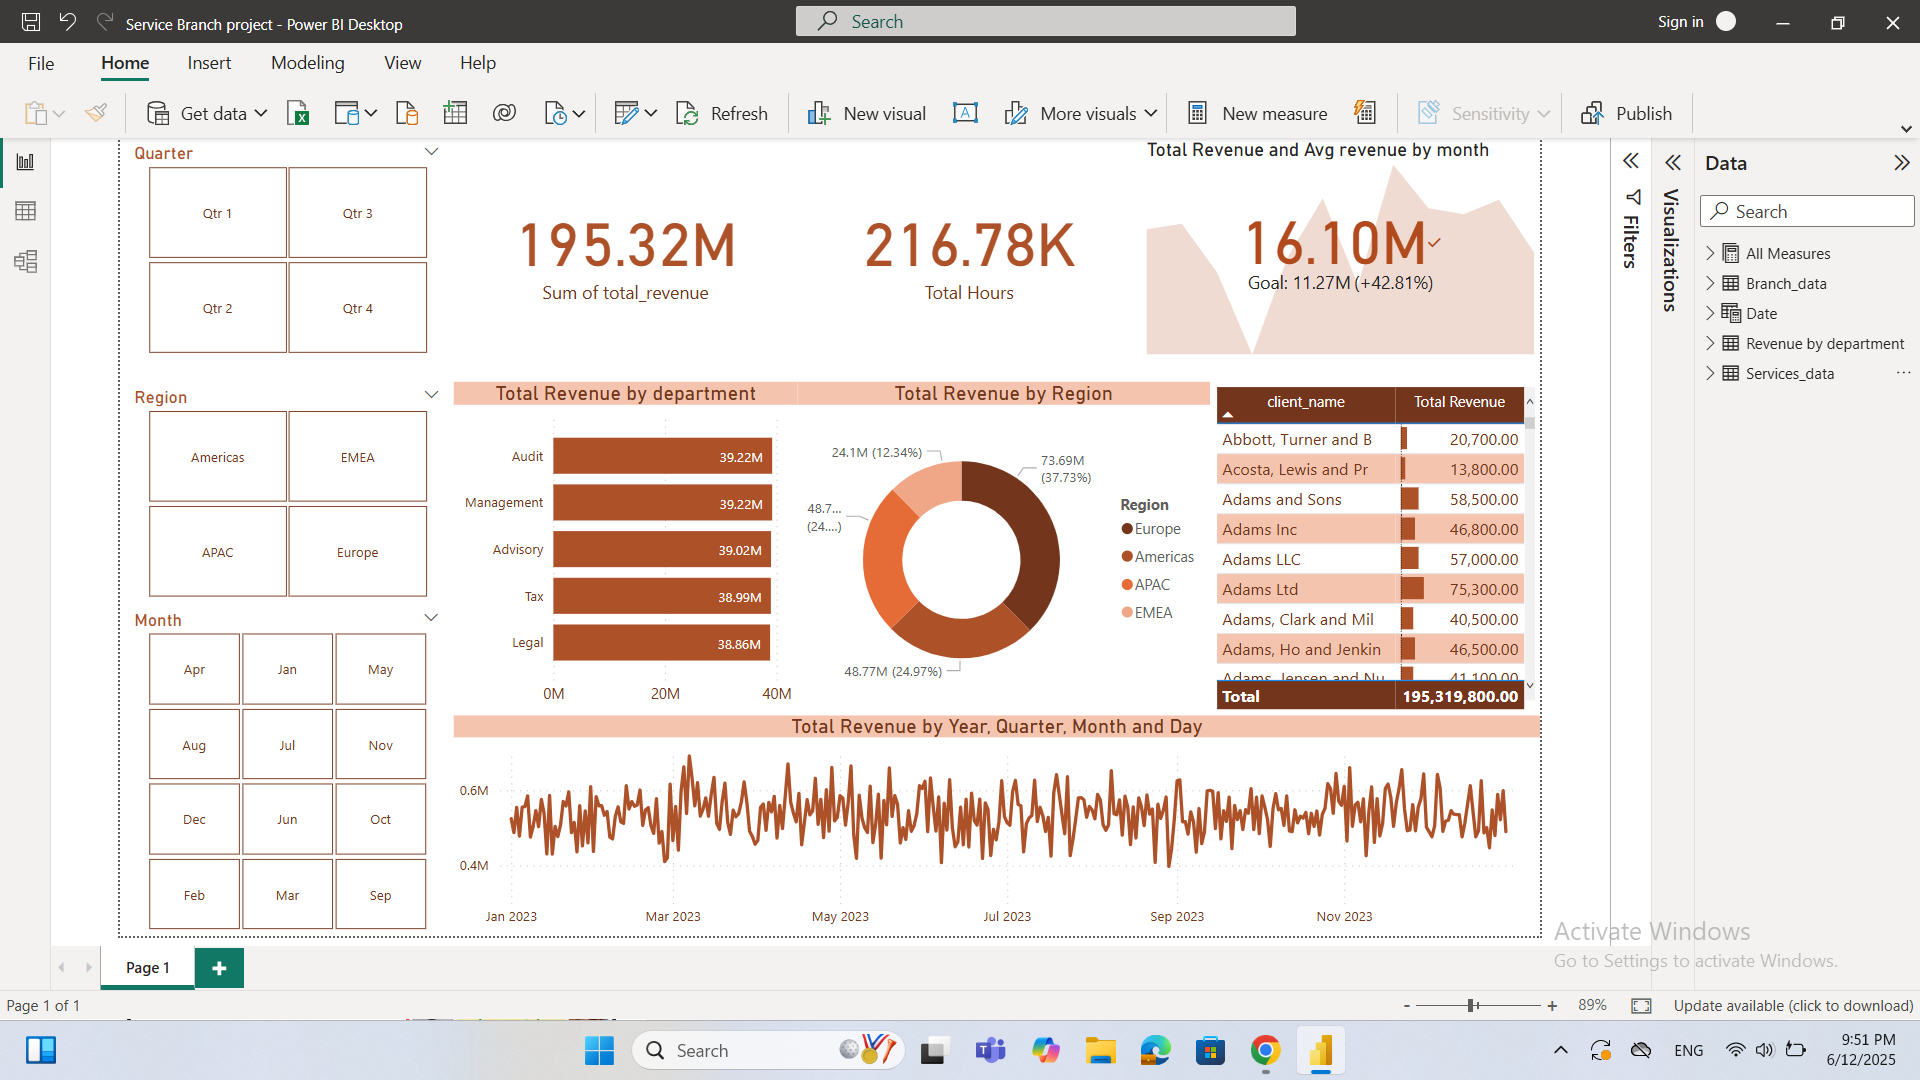

Layout of this report page (visuals, bound fields, positions):
{"tool":"powerbi","page":{"name":"Page 1","canvas":[1280,720],"ordinal":0},"visuals":[{"type":"lineChart","fields":{"Category":["Date.Date.Variation.Date Hierarchy.Year","Date.Date.Variation.Date Hierarchy.Quarter","Date.Date.Variation.Date Hierarchy.Month","Date.Date.Variation.Date Hierarchy.Day"],"Y":["All Measures.Total Revenue"]},"box":[300.7,519.5,979.6,200.4],"z":0},{"type":"slicer","fields":{"Values":["Branch_data.Region"]},"box":[0,219.6,300.5,200.3],"z":1000},{"type":"slicer","fields":{"Values":["Date.quarter"]},"box":[0,0,300.5,200.3],"z":2000},{"type":"slicer","fields":{"Values":["Date.month"]},"box":[0,419.9,300,300],"z":3000},{"type":"card","fields":{"Values":["All Measures.Total Hours"]},"box":[610.6,0,310.1,200.3],"z":4000},{"type":"kpi","fields":{"Indicator":["All Measures.Total Revenue"],"TrendLine":["Date.month"],"Goal":["All Measures.Avg revenue"]},"box":[920.8,0,359.5,200.3],"z":5000},{"type":"card","fields":{"Values":["Sum(Services_data.total_revenue)"]},"box":[300.5,0,310.1,200.3],"z":6000},{"type":"barChart","fields":{"Y":["All Measures.Total Revenue"],"Category":["Services_data.department"]},"box":[300.5,219.6,310.1,300.5],"z":7000},{"type":"donutChart","fields":{"Y":["All Measures.Total Revenue"],"Category":["Branch_data.Region"]},"box":[610.6,219.6,371.9,300.5],"z":8000},{"type":"tableEx","fields":{"Values":["Services_data.client_name","All Measures.Total Revenue"]},"box":[982.5,219.6,297.8,300.5],"z":9000}]}

Visuals, with their boxes on the page's 1280x720 design canvas (x1, y1, x2, y2). These are canvas units, not pixel positions in the 1920x1080 screenshot, which may show the page scaled, cropped or inside an application window:
lineChart - Date.Date.Variation.Date Hierarchy.Year x Date.Date.Variation.Date Hierarchy.Quarter: box(301, 520, 1280, 720)
slicer - Branch_data.Region: box(0, 220, 300, 420)
slicer - Date.quarter: box(0, 0, 300, 200)
slicer - Date.month: box(0, 420, 300, 720)
card - All Measures.Total Hours: box(611, 0, 921, 200)
kpi - All Measures.Total Revenue x Date.month: box(921, 0, 1280, 200)
card - Sum(Services_data.total_revenue): box(300, 0, 611, 200)
barChart - All Measures.Total Revenue x Services_data.department: box(300, 220, 611, 520)
donutChart - All Measures.Total Revenue x Branch_data.Region: box(611, 220, 982, 520)
tableEx - Services_data.client_name x All Measures.Total Revenue: box(982, 220, 1280, 520)
